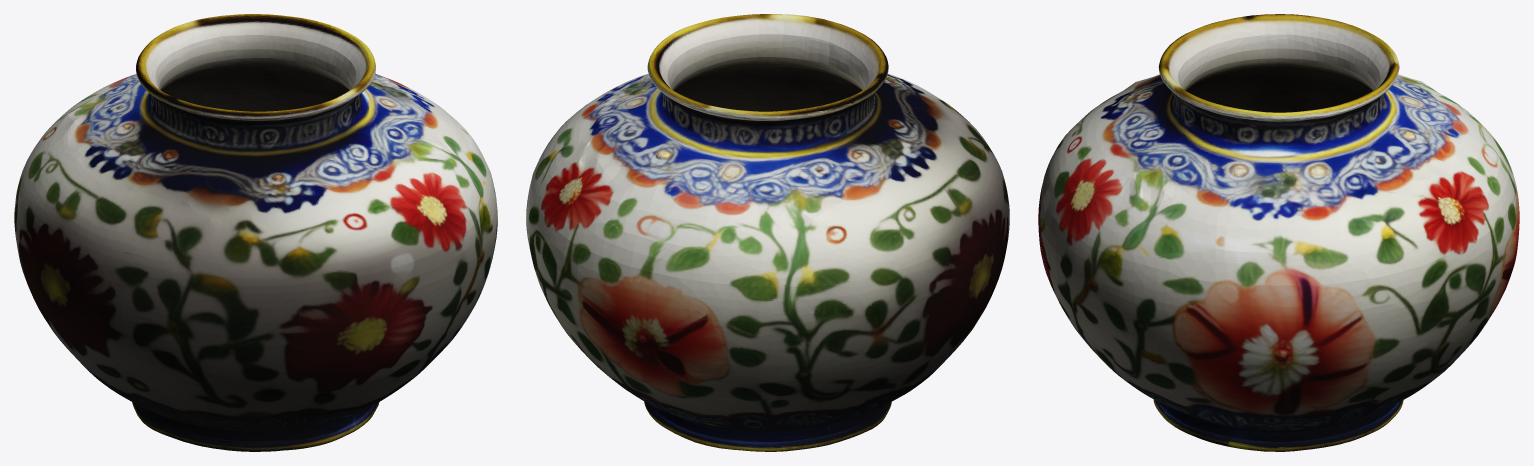
Rendered from porcelain-collector’s-item-vintage.jpeg.glb.
The picture shows the model from 3 angles, left to right: view 1: azimuth 30°, elevation 25°; view 2: azimuth 150°, elevation 25°; view 3: azimuth 270°, elevation 25°; orthographic projection.
Parts seen in each view (by area): view 1: world; view 2: world; view 3: world.
Part boxes in pixels (box(x1,y1,x2,y2)): world: box(14, 14, 497, 451); world: box(526, 14, 1009, 451); world: box(1038, 14, 1519, 451).
Bounding box in the file's own units: 0.997 × 0.7714 × 0.9978.
Materials: 1 (1 with a texture image).
